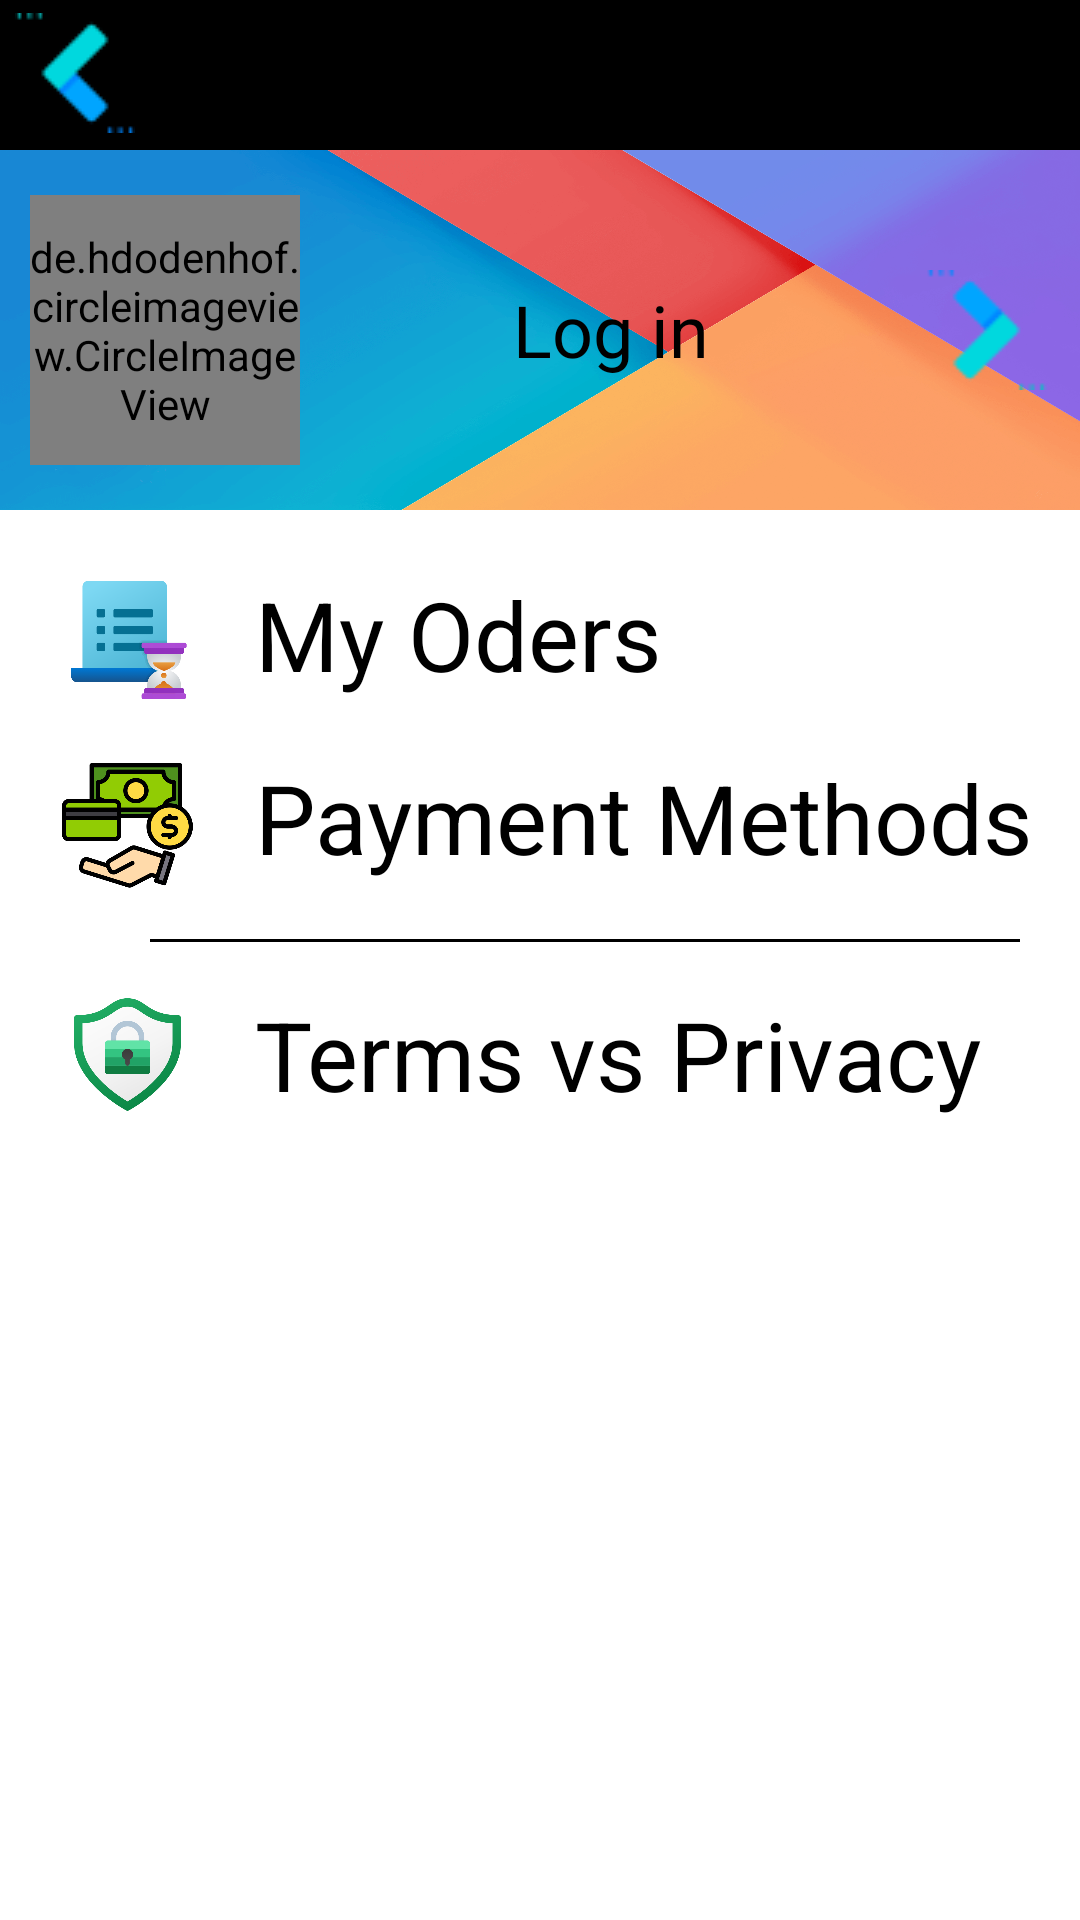

Named icons in this screenshot (1080px×1920px) and their bounding boxes, (x1, y1, x2, y2):
orderhistory: (71, 581, 187, 699)
securityhihi: (74, 998, 181, 1111)
